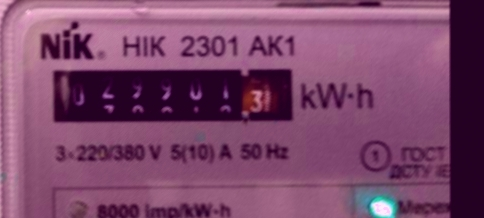0: (68, 79, 86, 106), (187, 73, 203, 102)
1: (218, 72, 231, 100)
2: (98, 73, 116, 100)
3: (247, 87, 264, 113)
9: (128, 73, 144, 100), (159, 74, 172, 101)
screen: (43, 59, 303, 131)
